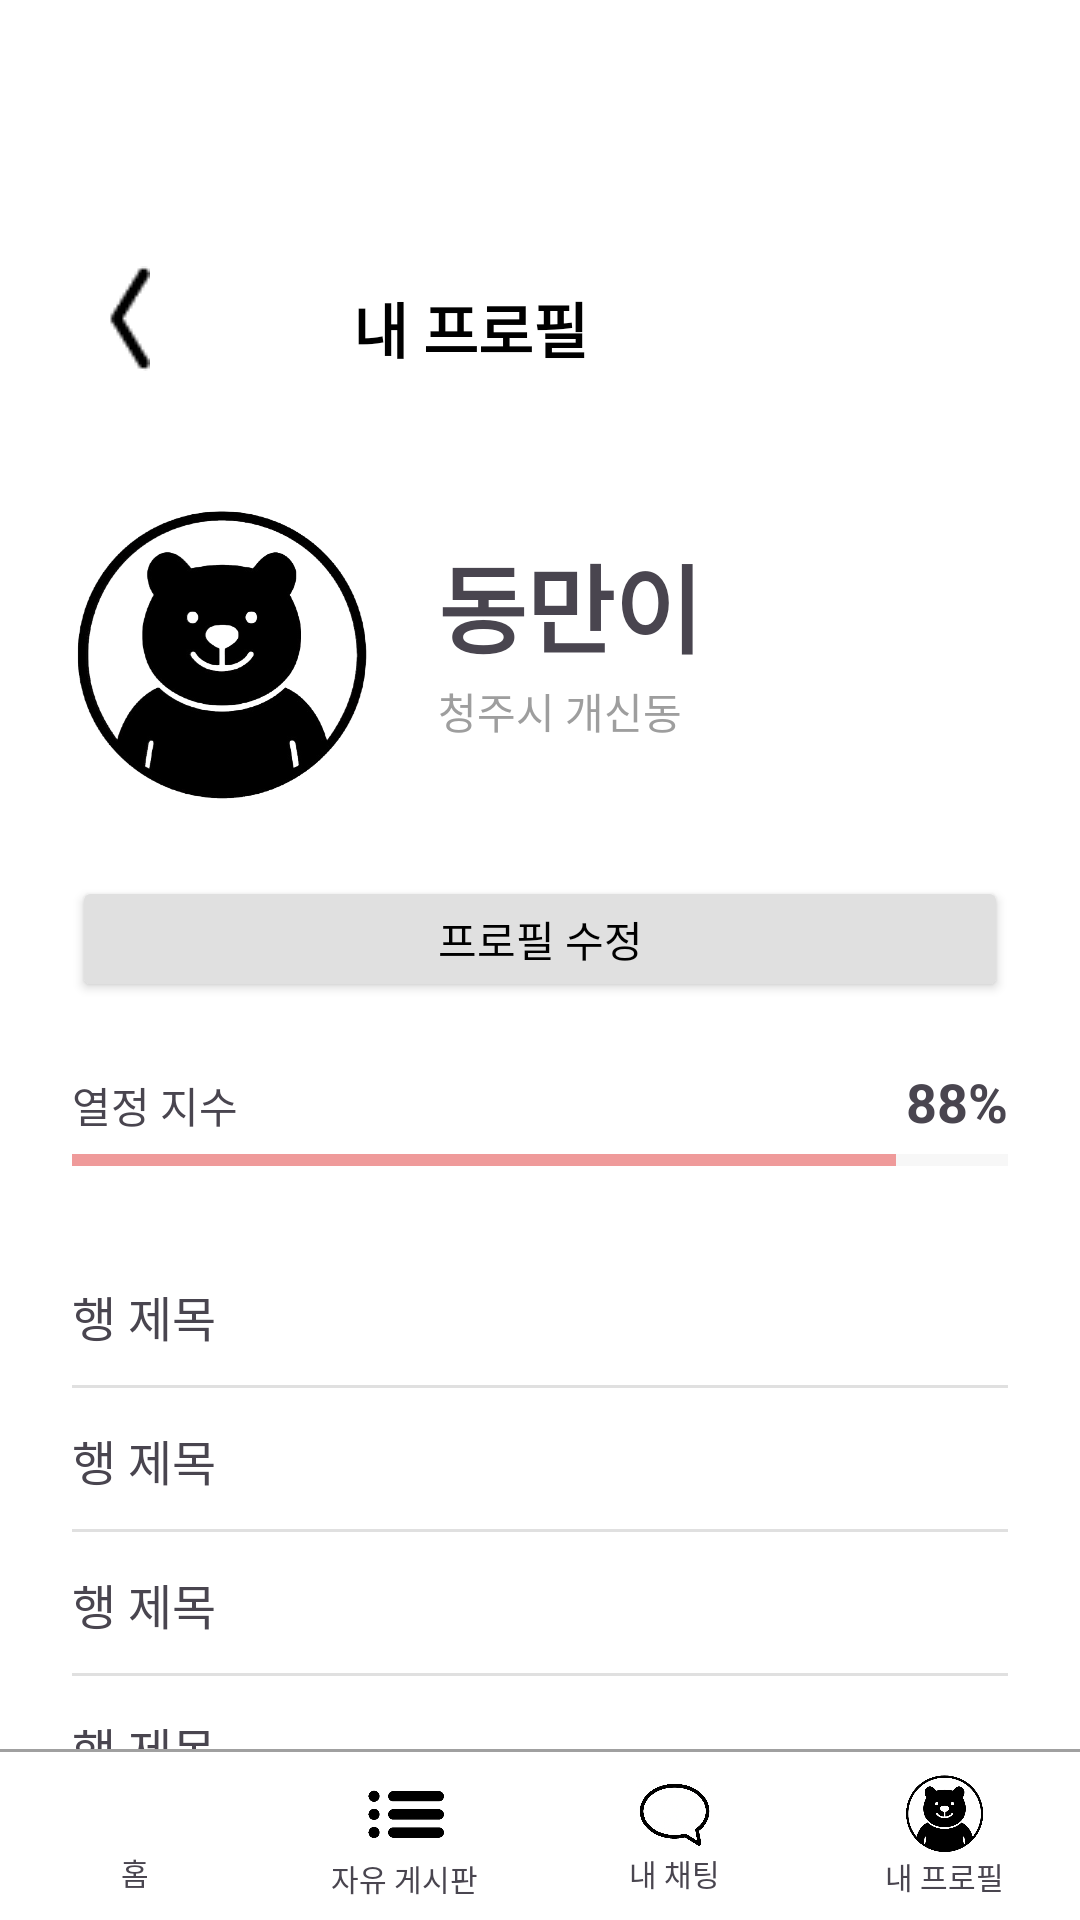

Locate icon controls on the screen. Image size 1080px x 1920px, boxes as (x1, y1, x2, y2).
friendlist: (368, 1790, 444, 1838)
